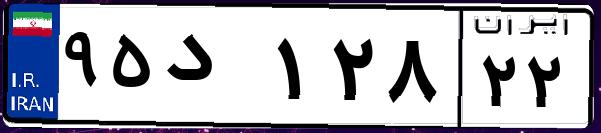1: (270, 28, 330, 110)
2: (330, 28, 385, 110), (475, 38, 525, 113), (525, 38, 570, 115)
5: (110, 28, 158, 98)
8: (385, 28, 445, 110)
9: (57, 26, 110, 100)
د: (158, 20, 270, 120)
